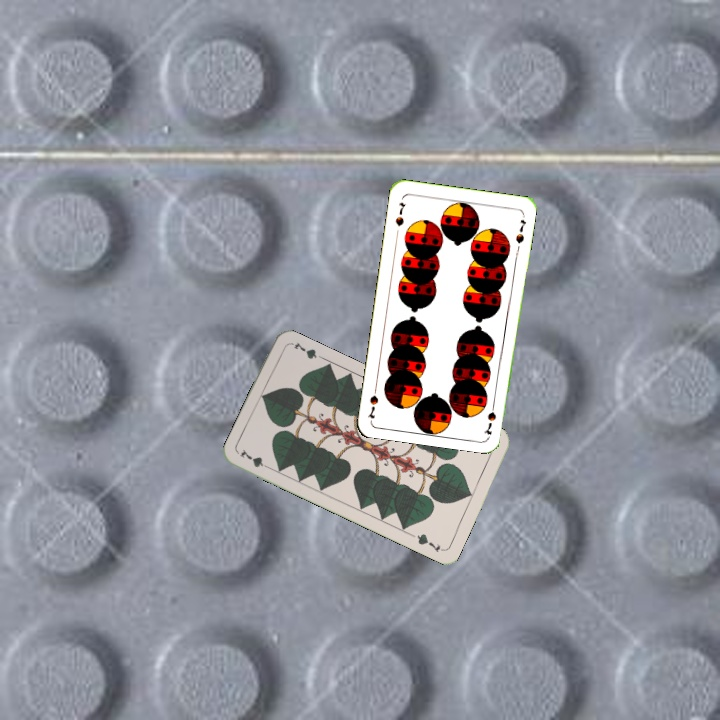G7: (236, 445, 274, 472)
S7: (481, 397, 498, 437), (392, 198, 408, 229)
